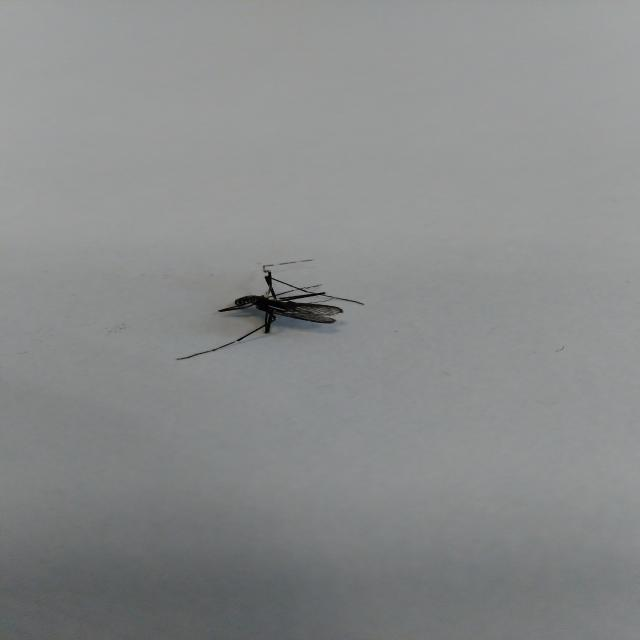albopictus: (180, 256, 363, 358)
